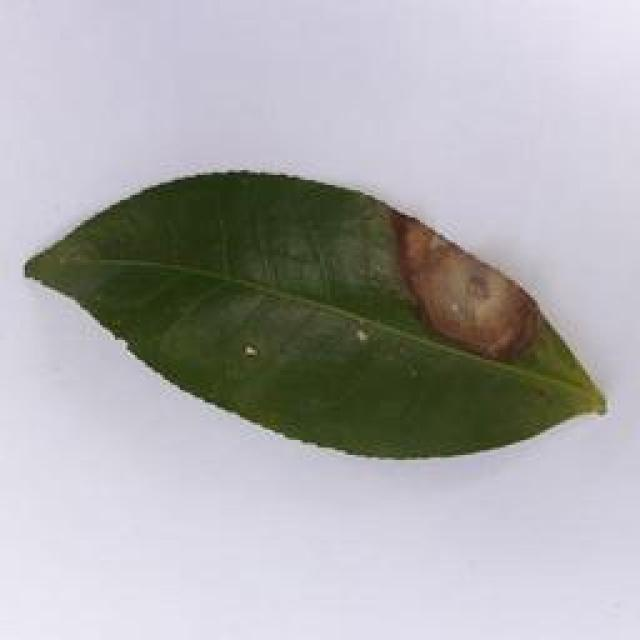Gray Blight: (18, 163, 611, 462)
